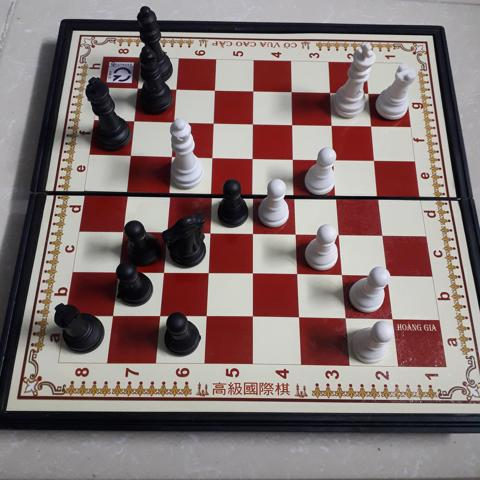xcorner: (384, 310, 400, 327), (246, 224, 263, 240), (204, 185, 221, 201), (123, 146, 139, 163), (247, 115, 264, 131), (105, 307, 121, 323), (152, 308, 168, 324), (199, 308, 215, 324), (246, 309, 262, 325), (292, 309, 308, 325), (338, 310, 354, 326), (110, 263, 126, 279), (156, 264, 172, 280), (201, 264, 217, 280), (246, 265, 262, 281), (291, 266, 307, 282), (336, 266, 352, 282), (380, 267, 396, 283), (115, 222, 131, 238), (159, 222, 175, 238), (203, 223, 219, 239), (290, 225, 306, 241), (333, 225, 349, 241), (376, 226, 392, 242), (119, 183, 135, 199), (162, 184, 178, 200), (247, 185, 263, 201), (289, 186, 305, 202), (331, 187, 347, 203), (373, 188, 389, 204), (165, 147, 181, 163), (206, 148, 222, 164), (247, 149, 263, 165), (288, 150, 304, 166), (329, 151, 345, 167), (369, 152, 385, 168), (127, 112, 143, 128), (168, 113, 184, 129), (208, 114, 224, 130), (287, 116, 303, 132), (327, 117, 343, 133), (366, 118, 382, 134), (131, 80, 147, 96), (170, 81, 186, 97), (209, 82, 225, 98), (248, 83, 264, 99), (286, 84, 302, 100), (325, 85, 341, 101), (363, 86, 379, 102)
